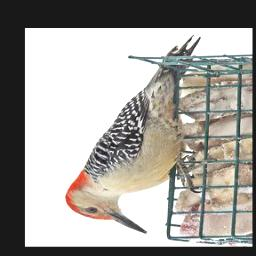Woodpecker: (65, 33, 203, 237)
